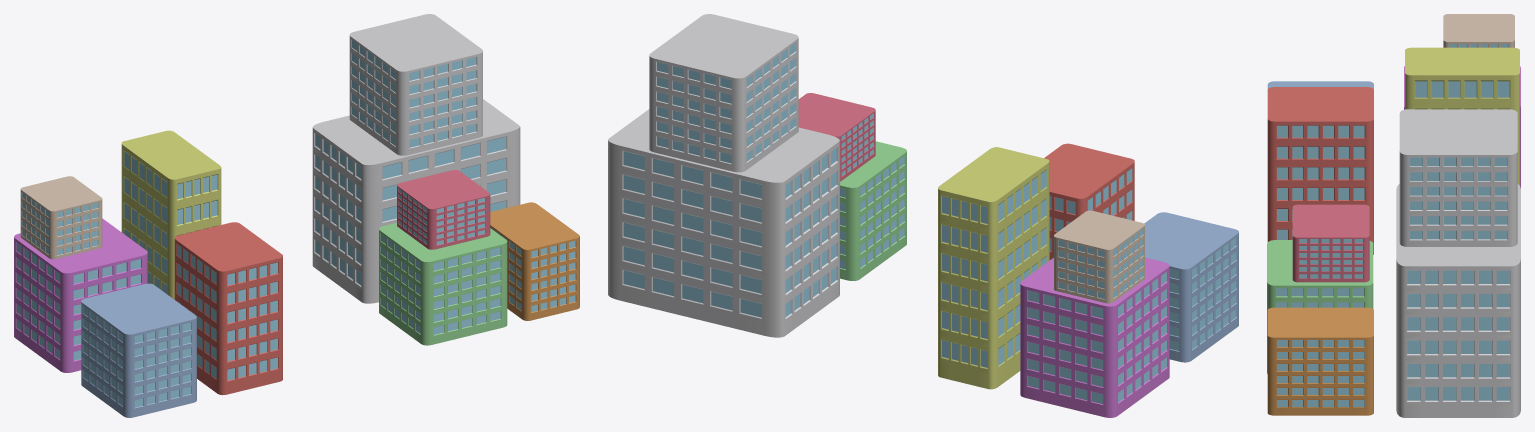
File: GEDUNG_TENGAH.fbx
3 views of the same model, side by side, from view 1: azimuth 30°, elevation 25°; view 2: azimuth 150°, elevation 25°; view 3: azimuth 270°, elevation 25° (orthographic). The views are drawn at different scales.
Parts seen in each view (by area): view 1: GEDUNG_TENGAH; view 2: GEDUNG_TENGAH; view 3: GEDUNG_TENGAH.
Boxes of the visible parts, <box> form: GEDUNG_TENGAH: <box>14,14,579,417</box>; GEDUNG_TENGAH: <box>608,14,1238,417</box>; GEDUNG_TENGAH: <box>1267,14,1520,417</box>.
Bounding box in the file's own units: 10623 × 4961 × 4681.
